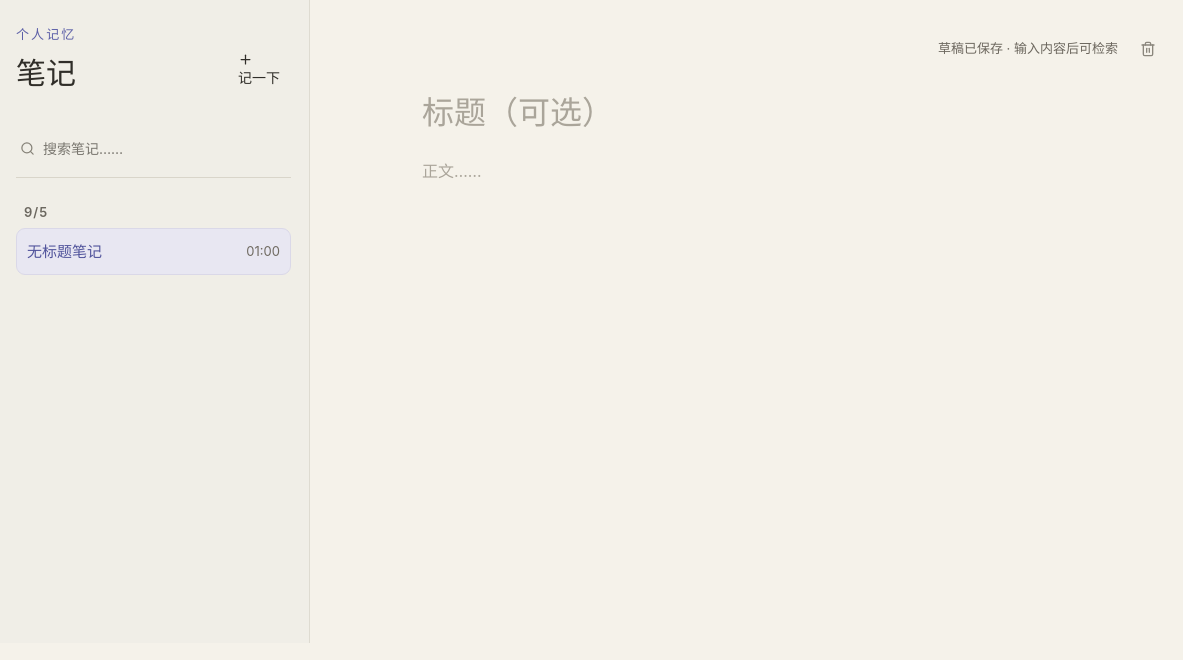
Test case: waits for native save completion and removes its close listener on unmount
In the text box named "笔记正文": (794, 372) [422,157,1166,587], type "立即关闭"
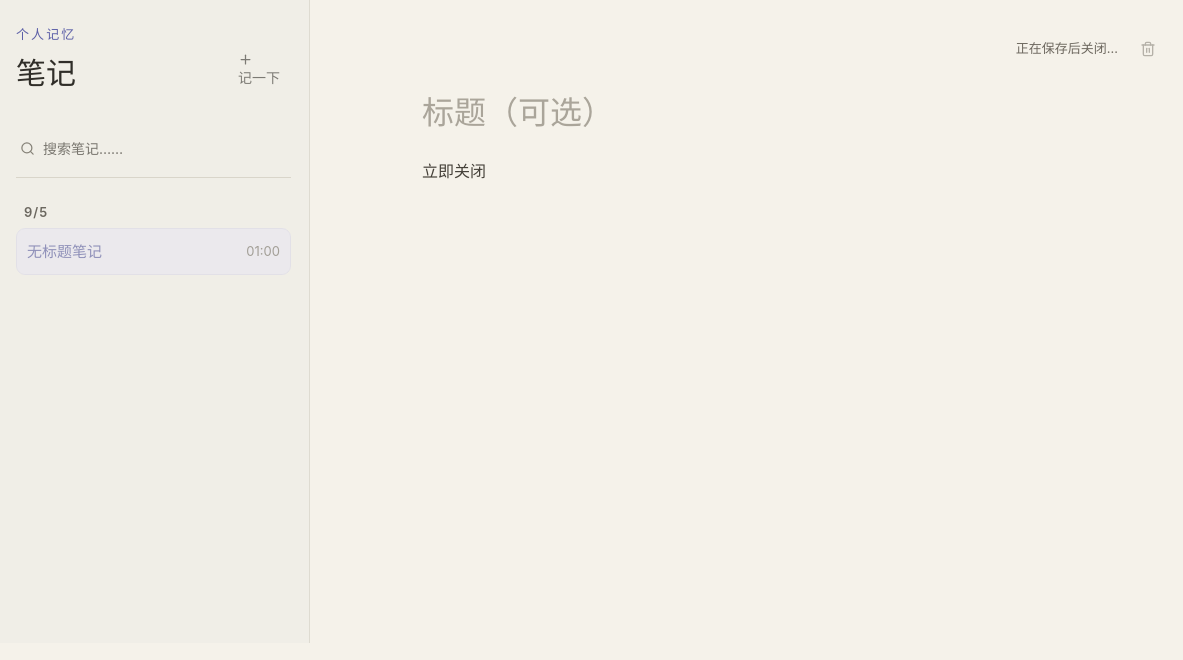
Expected: the text box named "笔记正文" is disabled, [422,157,1166,587]
